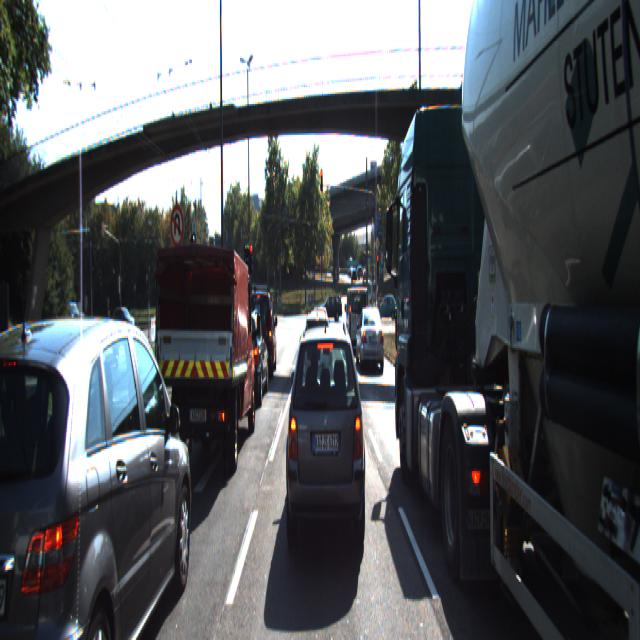Car: (391, 0, 639, 639), (0, 307, 195, 638), (156, 233, 260, 486), (286, 316, 368, 571), (223, 306, 270, 407), (245, 286, 276, 374), (356, 304, 385, 370), (344, 281, 370, 349)
